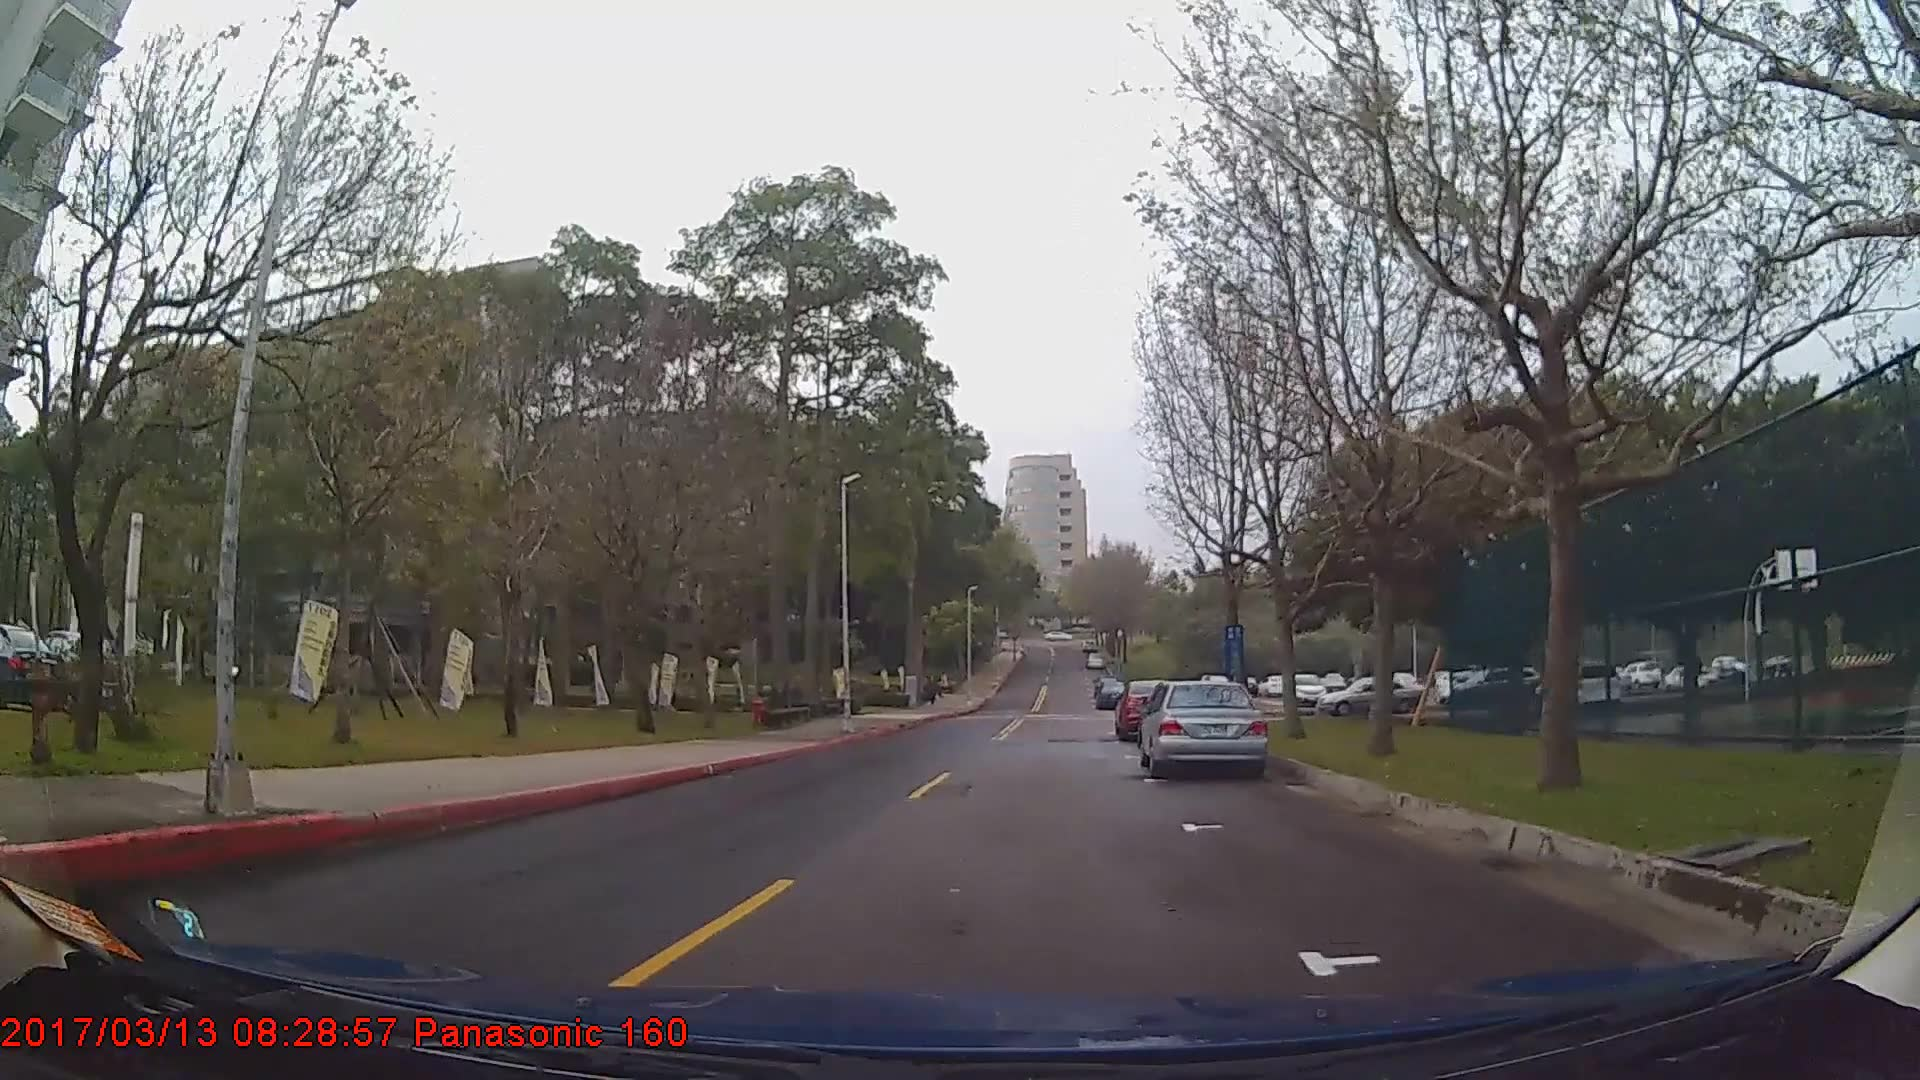vehicle: (1137, 679, 1269, 781), (1315, 670, 1425, 716), (1112, 676, 1182, 744), (1095, 676, 1130, 707)
